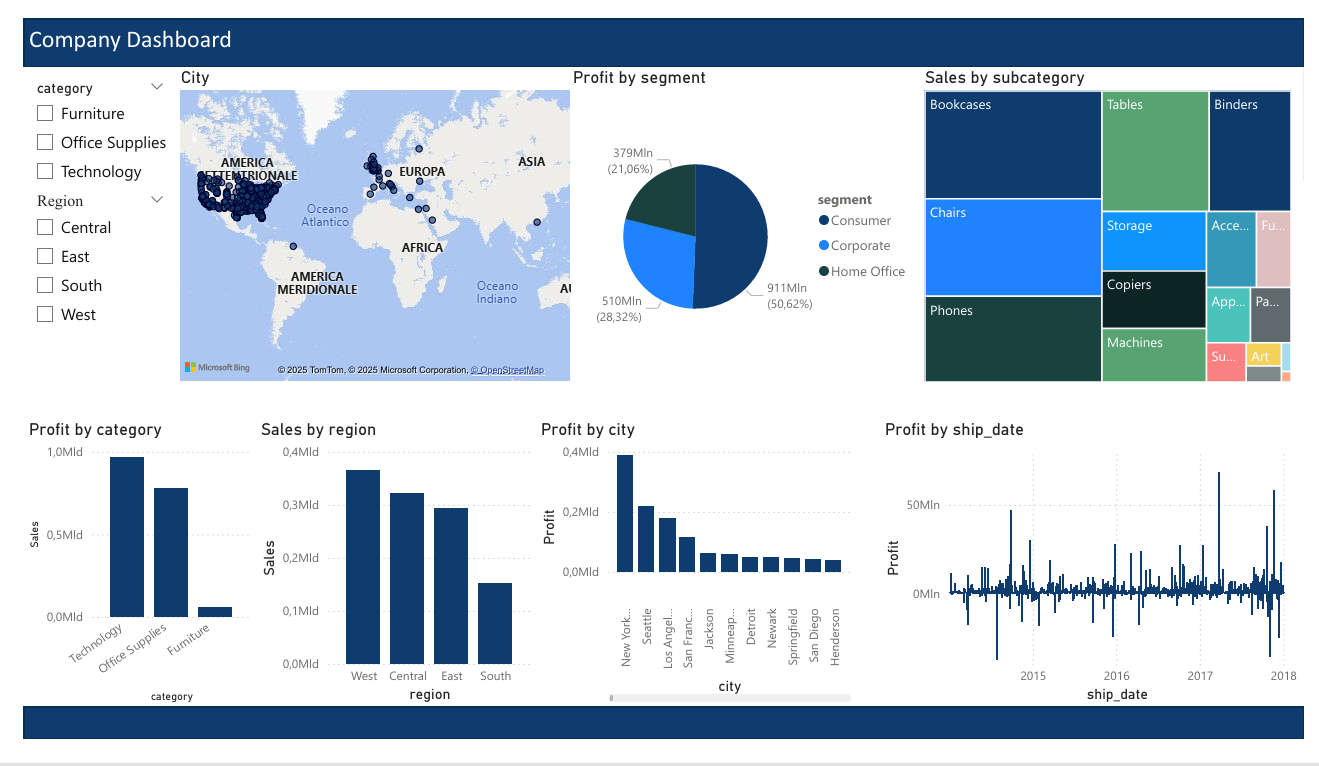

The dashboard page shown, as its layout file describes it:
{"tool":"powerbi","page":{"name":"Sales","canvas":[1280,720],"ordinal":0},"visuals":[{"type":"shape","box":[0,0,1280,48],"z":0},{"type":"columnChart","title":"Sales by region","fields":{"Y":["Sum(Store_final_data.Sales)"],"Category":["Store_final_data.region"]},"box":[232,400,280,288],"z":1000},{"type":"slicer","fields":{"Values":["Store_final_data.region"]},"box":[0,168,152,152],"z":2000},{"type":"clusteredColumnChart","title":" Profit by city","fields":{"Category":["Store_final_data.city"],"Y":["Sum(Store_final_data.Profit)"]},"box":[512,400,320,288],"z":3000},{"type":"map","title":"City","fields":{"Category":["Store_final_data.city"]},"box":[152,48,400,320],"z":4000},{"type":"clusteredColumnChart","title":"Profit by category","fields":{"Y":["Sum(Store_final_data.Profit)"],"Category":["Store_final_data.category"]},"box":[0,400,232,288],"z":5000},{"type":"treemap","title":"Sales by subcategory","fields":{"Group":["Store_final_data.sub_category"],"Values":["Sum(Store_final_data.Sales)"]},"box":[896,48,376,320],"z":6000},{"type":"pieChart","title":"Profit by segment","fields":{"Category":["Store_final_data.segment"],"Y":["Sum(Store_final_data.Profit)"]},"box":[544,48,352,320],"z":7000},{"type":"slicer","fields":{"Values":["Store_final_data.category"]},"box":[0,56,152,120],"z":8000},{"type":"lineClusteredColumnComboChart","title":"Profit by ship_date","fields":{"Category":["Store_final_data.ship_date"],"Y":["Sum(Store_final_data.Profit)"]},"box":[856,400,424,288],"z":9000},{"type":"shape","box":[0,688,1280,32],"z":10000},{"type":"shape","box":[0,688,1280,32],"z":11000},{"type":"textbox","box":[0,0,304,40],"z":12000}]}

Visuals, with their boxes on the page's 1280x720 design canvas (x1, y1, x2, y2). These are canvas units, not pixel positions in the 1319x766 screenshot, which may show the page scaled, cropped or inside an application window:
shape: [x1=0, y1=0, x2=1280, y2=48]
"Sales by region" columnChart: [x1=232, y1=400, x2=512, y2=688]
slicer - Store_final_data.region: [x1=0, y1=168, x2=152, y2=320]
" Profit by city" clusteredColumnChart: [x1=512, y1=400, x2=832, y2=688]
"City" map: [x1=152, y1=48, x2=552, y2=368]
"Profit by category" clusteredColumnChart: [x1=0, y1=400, x2=232, y2=688]
"Sales by subcategory" treemap: [x1=896, y1=48, x2=1272, y2=368]
"Profit by segment" pieChart: [x1=544, y1=48, x2=896, y2=368]
slicer - Store_final_data.category: [x1=0, y1=56, x2=152, y2=176]
"Profit by ship_date" lineClusteredColumnComboChart: [x1=856, y1=400, x2=1280, y2=688]
shape: [x1=0, y1=688, x2=1280, y2=720]
shape: [x1=0, y1=688, x2=1280, y2=720]
textbox: [x1=0, y1=0, x2=304, y2=40]
